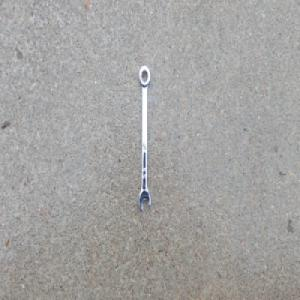Wrench: (138, 63, 151, 212)
